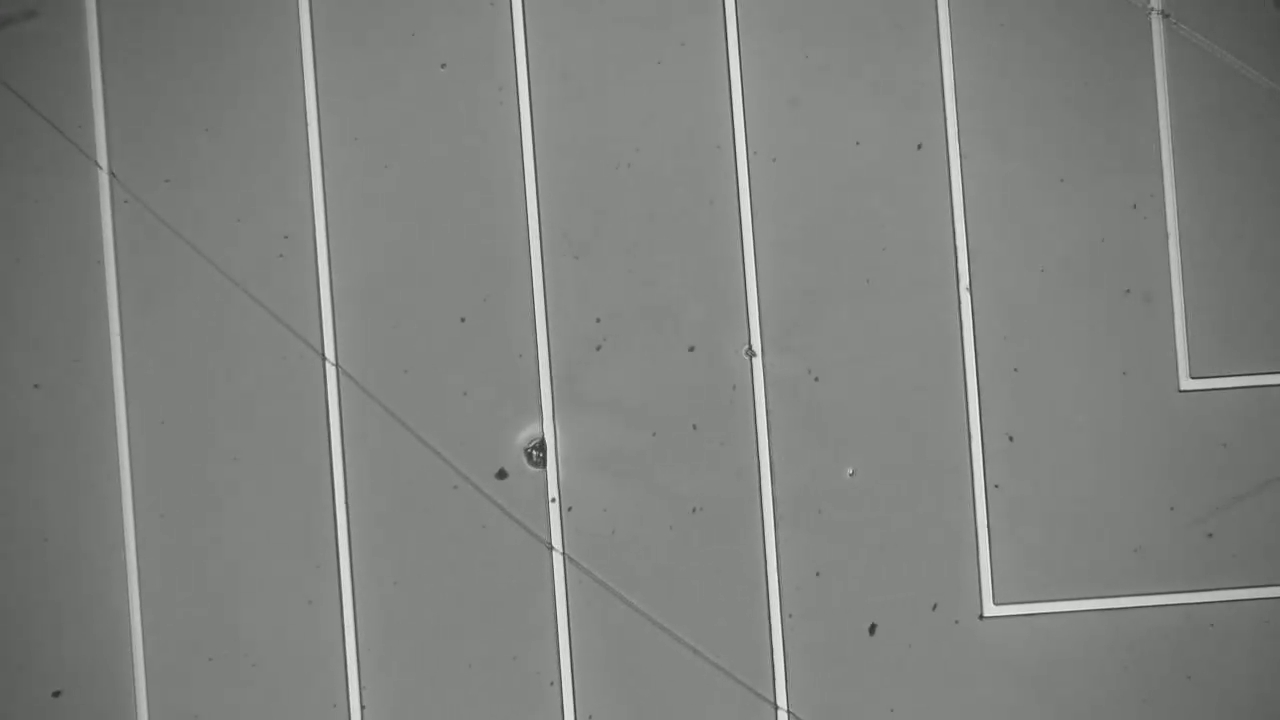scratch: (5, 90, 801, 719), (1175, 9, 1278, 92)
stains_enbedded: (517, 424, 568, 479), (737, 337, 777, 367)
